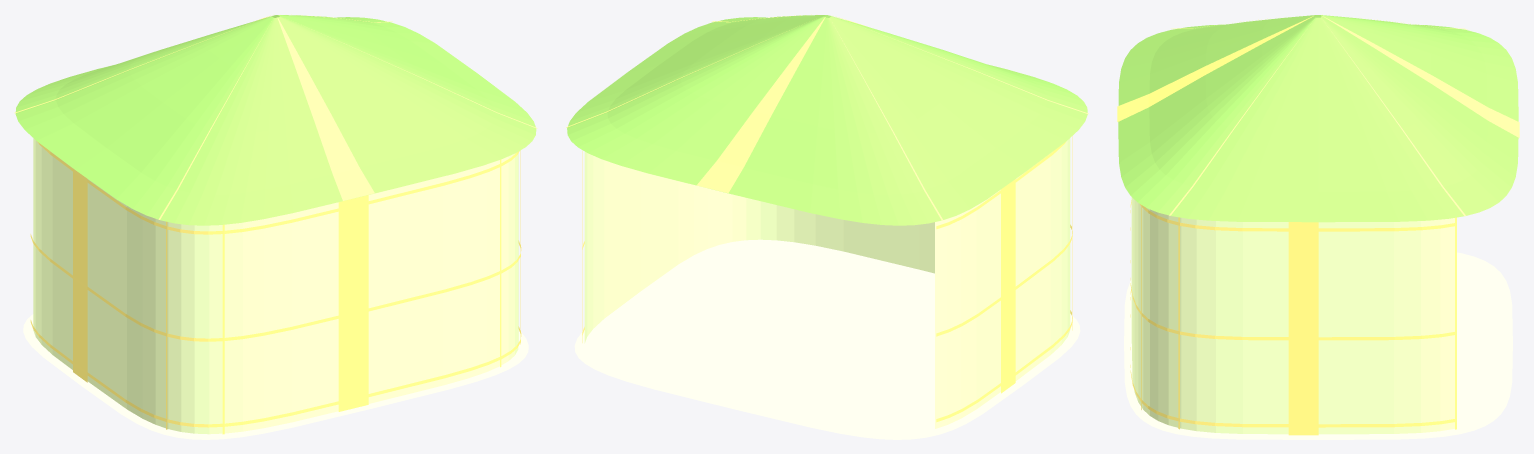
The model's file is cabin-funk.glb.
The picture shows the model from 3 angles, left to right: view 1: azimuth 30°, elevation 25°; view 2: azimuth 150°, elevation 25°; view 3: azimuth 270°, elevation 25°; orthographic projection.
Visible parts, largest first — view 1: BASS CABANA; view 2: BASS CABANA; view 3: BASS CABANA.
Part boxes in pixels (box(x1,y1,x2,y2)): BASS CABANA: box(14, 14, 537, 439); BASS CABANA: box(566, 14, 1088, 439); BASS CABANA: box(1117, 15, 1519, 439).
Size of the model in its own units: 9.78 by 7.53 by 8.38.
